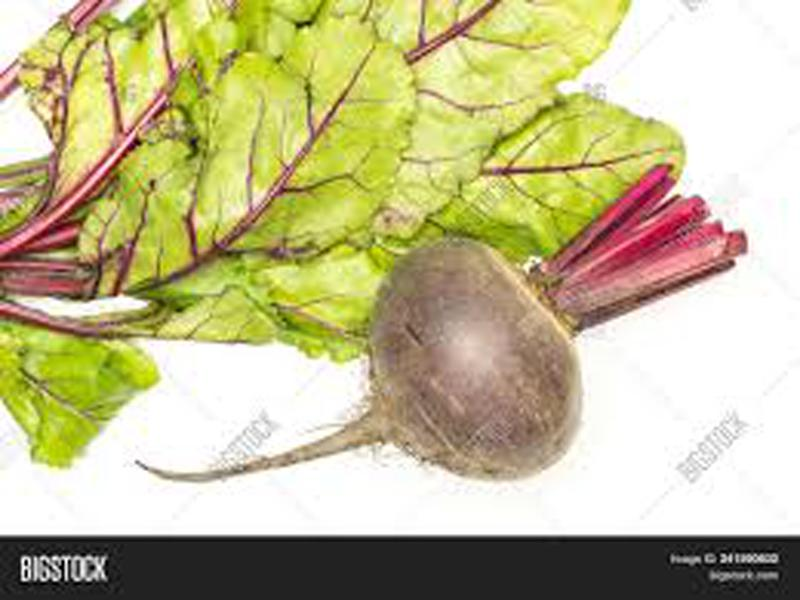Beet: (135, 164, 748, 482)
